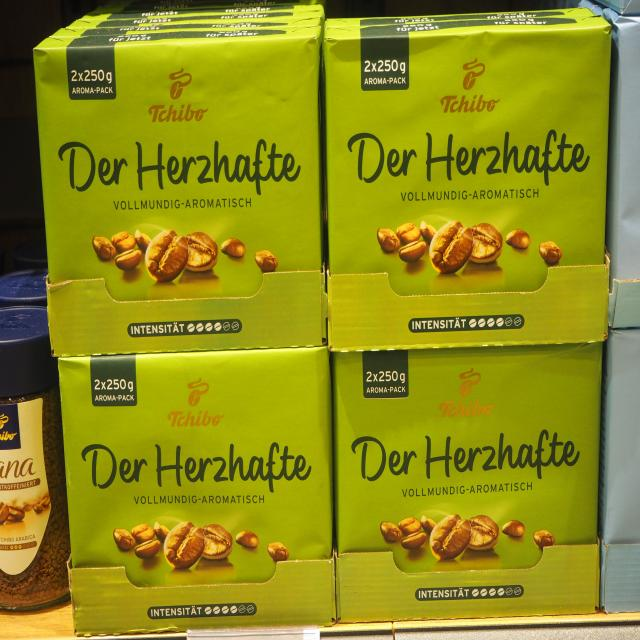Herzhatfe Mundig: (29, 22, 327, 357), (323, 14, 615, 351), (54, 344, 337, 639), (331, 344, 603, 625)
